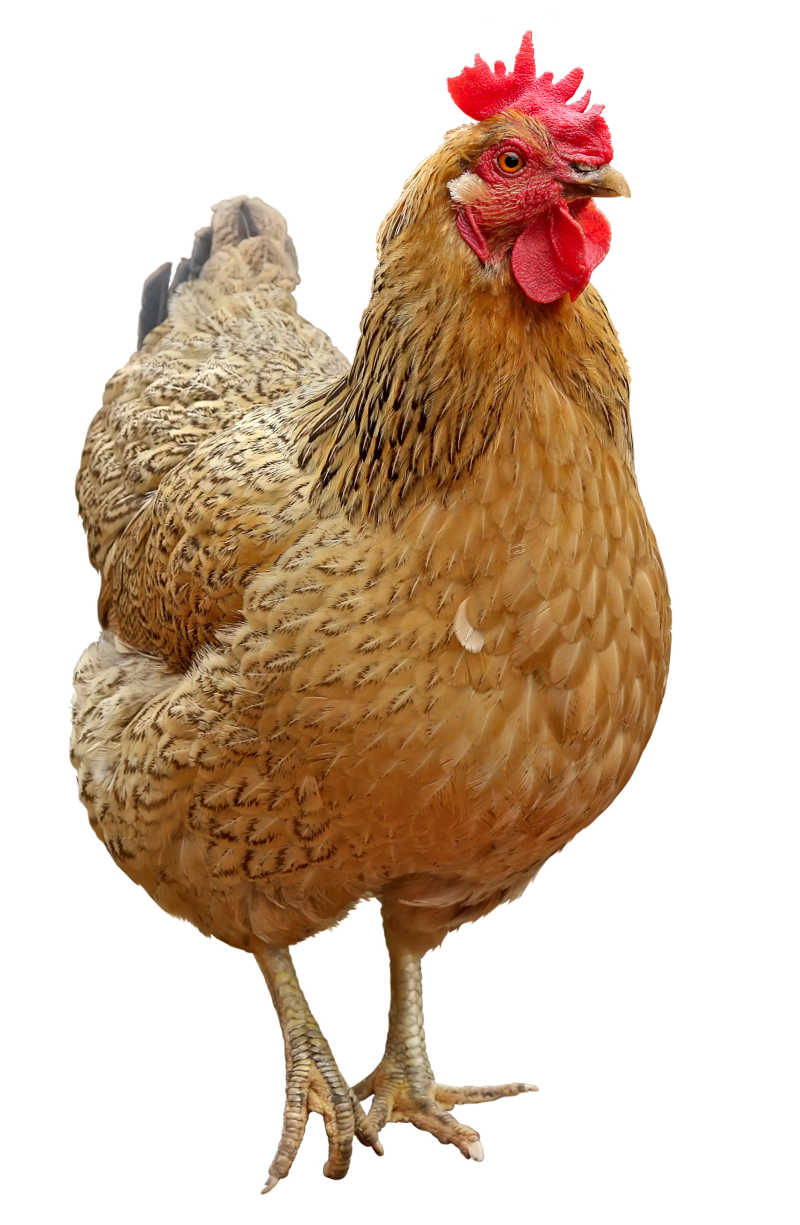chicken: (58, 31, 681, 1190)
